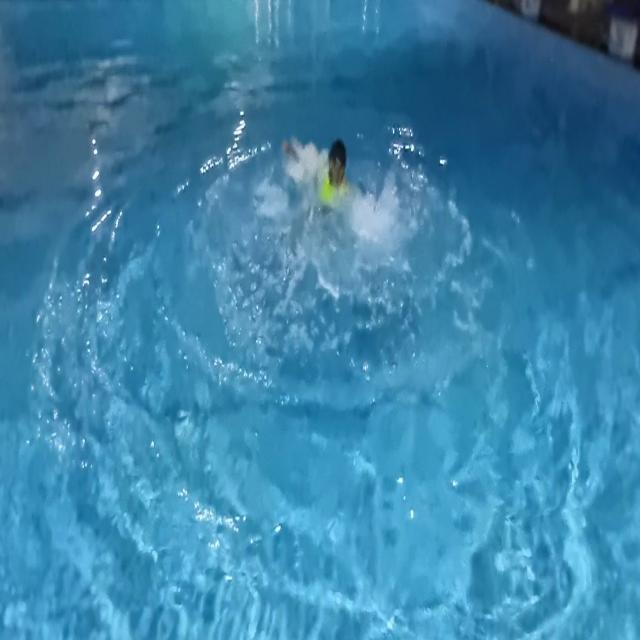Drowning: (250, 82, 421, 310)
